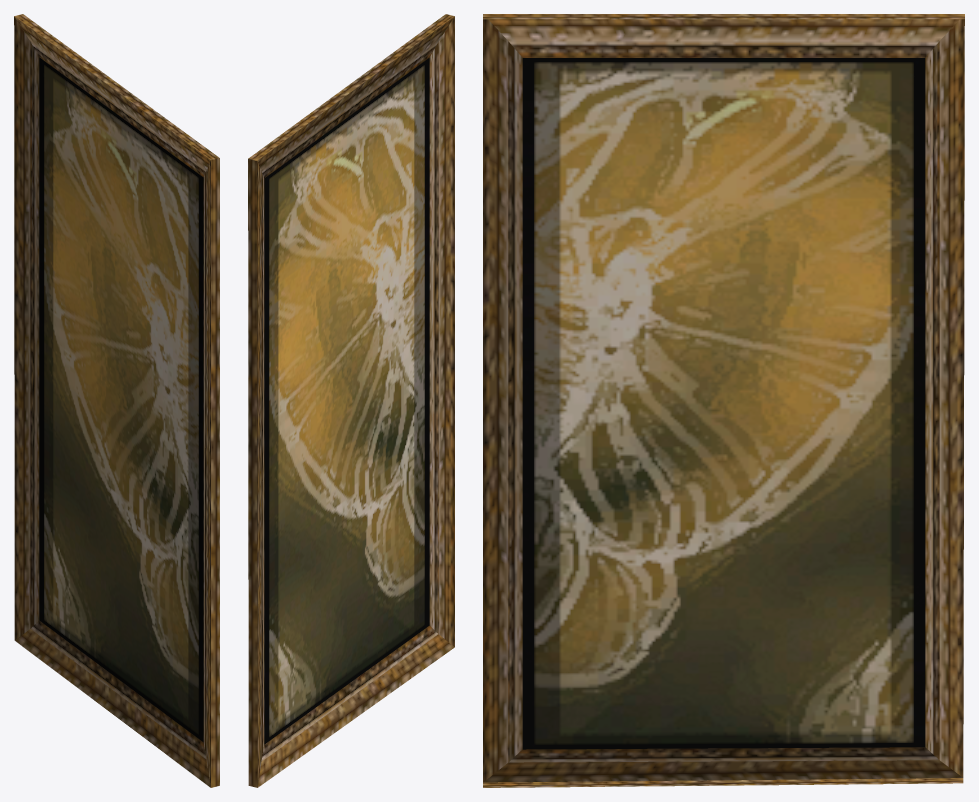
The model's file is frn_all_painting_golden_flower_s03.fbx.
3 views of the same model, side by side, from view 1: azimuth 30°, elevation 25°; view 2: azimuth 150°, elevation 25°; view 3: azimuth 270°, elevation 25° (orthographic). The views are drawn at different scales.
Parts seen in each view (by area): view 1: mesh_node; view 2: mesh_node; view 3: mesh_node.
Boxes of the visible parts, x1,y1,x2,y2 form: mesh_node: (14, 14, 219, 787); mesh_node: (248, 14, 454, 787); mesh_node: (483, 14, 964, 787).
Size of the model in its own units: 0.0364 by 2.44 by 1.38.
